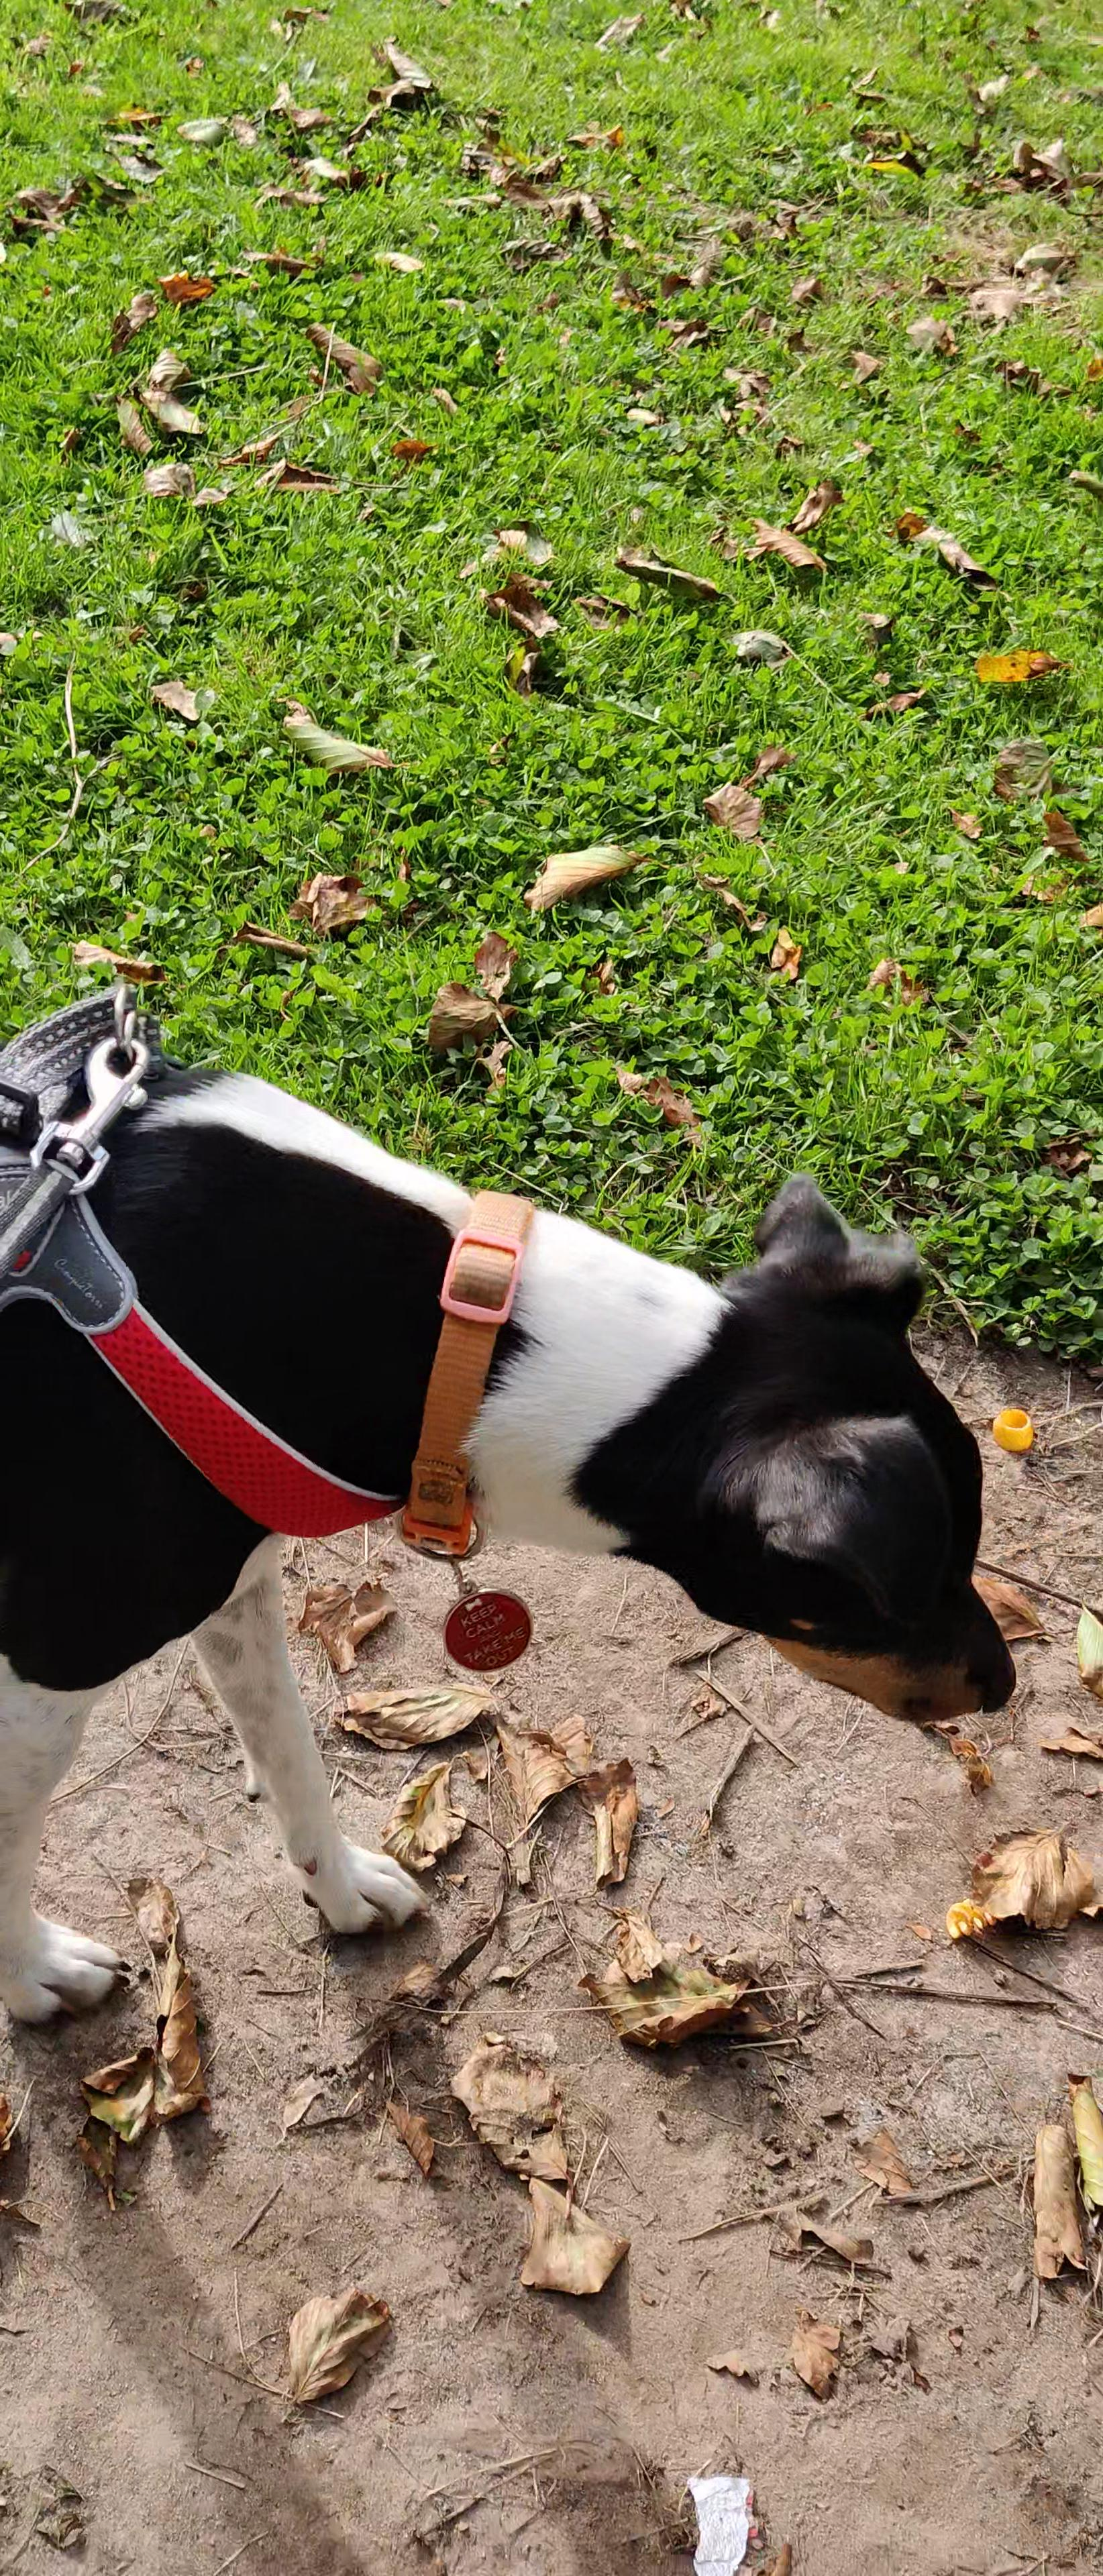Dog: (0, 996, 1022, 2049)
